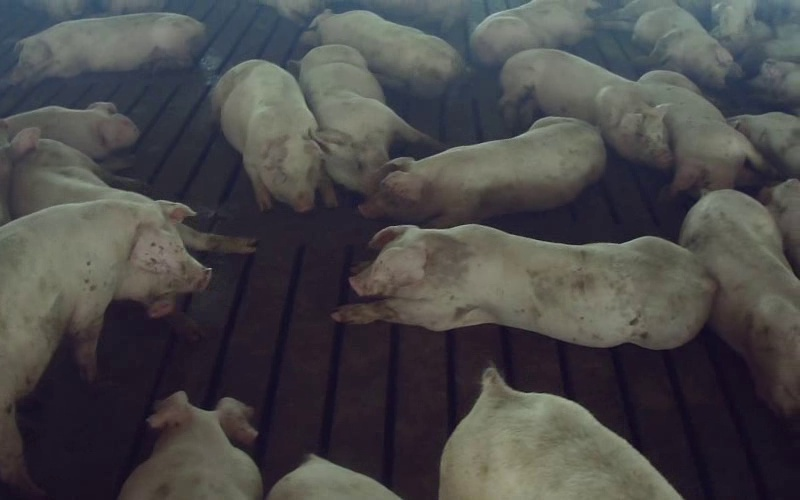pig: (0, 200, 210, 491), (333, 224, 714, 348), (440, 368, 681, 499), (679, 190, 799, 415), (359, 117, 605, 226), (299, 45, 438, 194), (500, 49, 672, 168), (212, 60, 335, 211), (638, 70, 766, 194), (10, 12, 205, 86), (306, 10, 463, 97), (596, 0, 740, 88), (4, 102, 139, 159)
